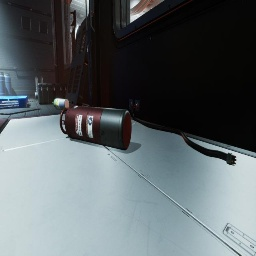0: (52, 98, 69, 109)
NitrogenTank ,: (60, 105, 132, 150), (35, 92, 38, 99)
